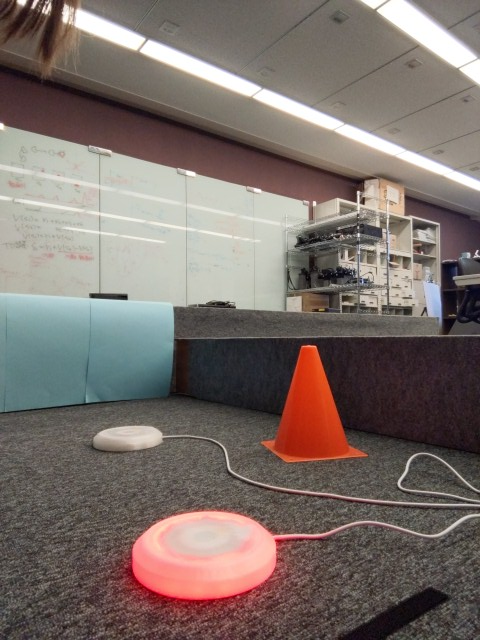o: (92, 422, 164, 451)
r: (125, 507, 279, 598)
